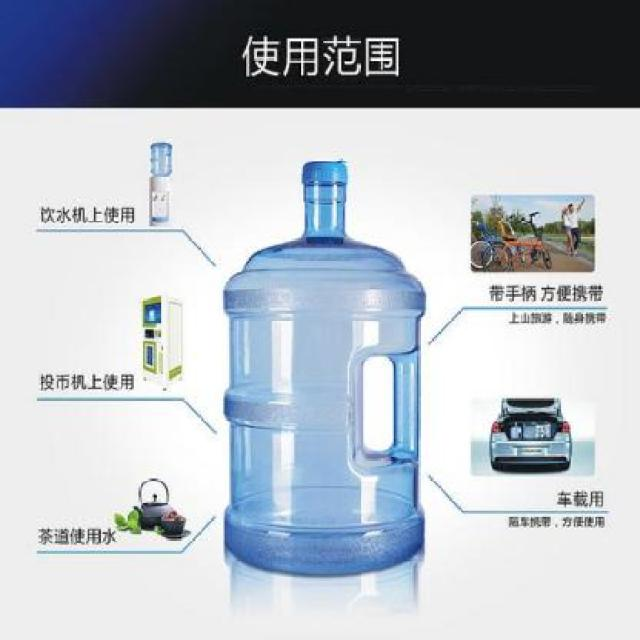coolerbottle: (220, 156, 434, 582)
